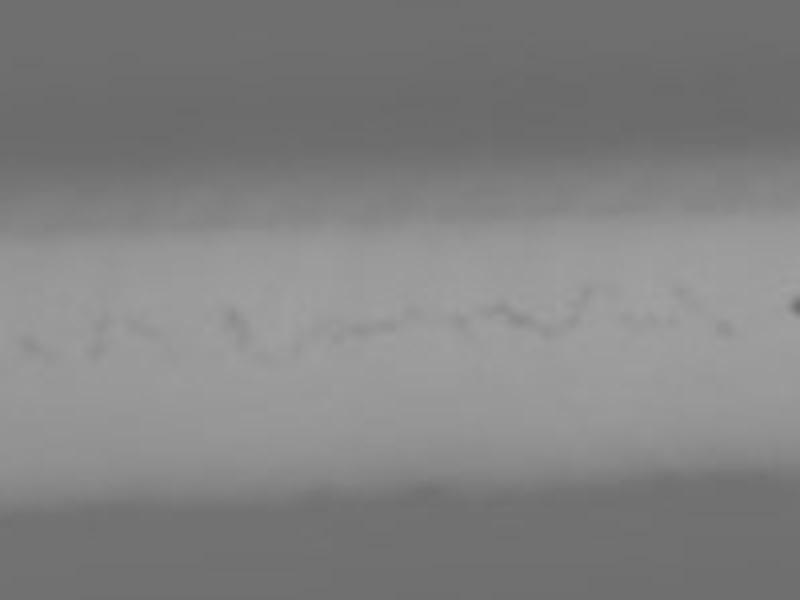defect: (218, 306, 251, 348), (345, 319, 400, 340), (444, 305, 473, 334), (243, 343, 273, 368), (670, 278, 698, 302), (119, 312, 144, 336), (712, 314, 733, 341), (578, 280, 600, 304), (94, 309, 115, 333), (26, 333, 48, 355), (507, 313, 533, 330), (563, 310, 584, 330), (616, 307, 636, 328), (402, 306, 423, 325), (535, 320, 557, 338), (643, 306, 660, 329), (786, 293, 800, 320), (88, 340, 108, 358), (143, 323, 162, 341), (664, 311, 682, 330), (492, 296, 510, 314), (325, 328, 344, 345)
